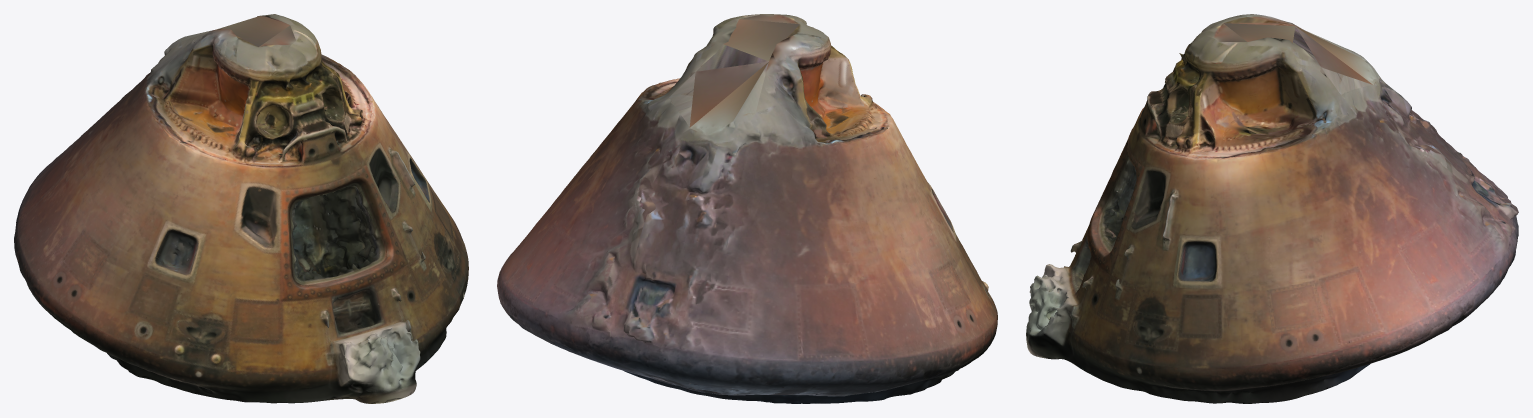
File: apollo_10_capsule.glb
The picture shows the model from 3 angles, left to right: view 1: azimuth 30°, elevation 25°; view 2: azimuth 150°, elevation 25°; view 3: azimuth 270°, elevation 25°; orthographic projection. The views are drawn at different scales.
Visible parts, largest first — view 1: Object_2; view 2: Object_2; view 3: Object_2.
Part boxes in pixels (x1,y1,x2,y2): Object_2: (14, 14, 468, 403); Object_2: (497, 14, 997, 403); Object_2: (1026, 14, 1518, 403).
Bounding box in the file's own units: 24.97 × 17.99 × 26.3.
Materials: 1 (1 with a texture image).
